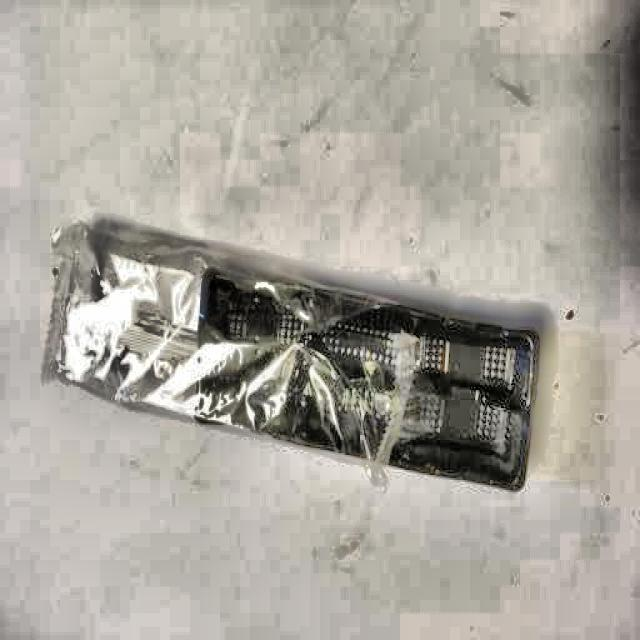plastic: (48, 217, 541, 508)
